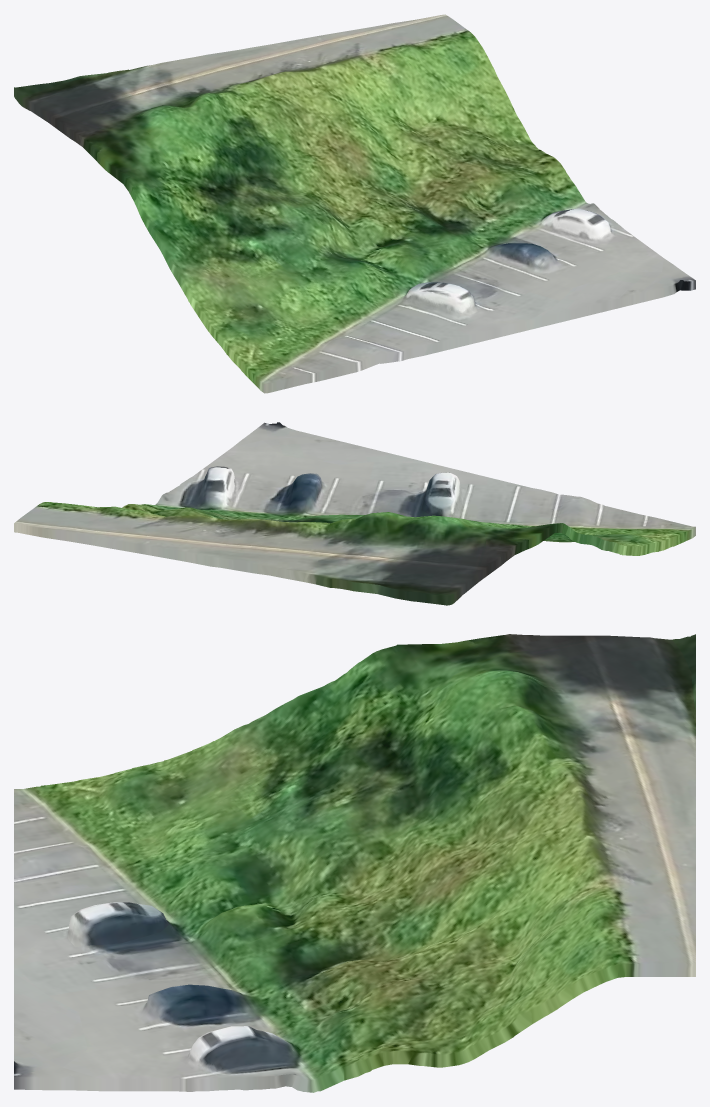
File: z20-167565-405175-h0-yup-uvflip-v3-world.glb
3 renders of one model, top to bottom at view 1: azimuth 30°, elevation 25°; view 2: azimuth 150°, elevation 25°; view 3: azimuth 270°, elevation 25°, orthographic. The views are drawn at different scales.
Size of the model in its own units: 30.16 by 9 by 30.32.
1 material, 1 textured.
